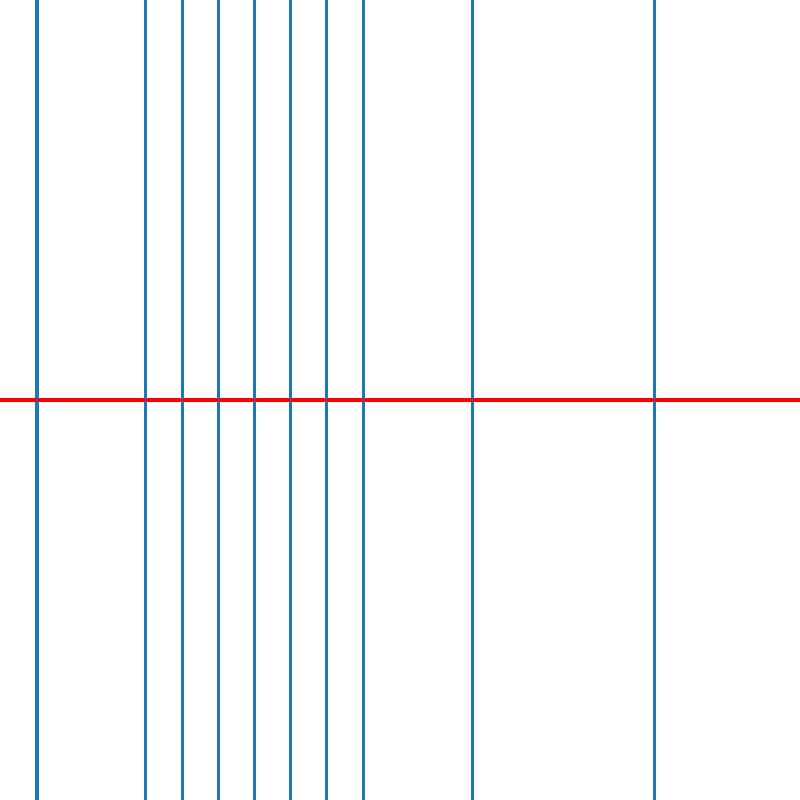root: (650, 396, 658, 404), (32, 396, 40, 404), (141, 396, 149, 404), (250, 396, 258, 404), (287, 396, 294, 404), (214, 396, 221, 404), (360, 396, 367, 404), (178, 396, 185, 404), (323, 396, 330, 404), (469, 396, 476, 404)
